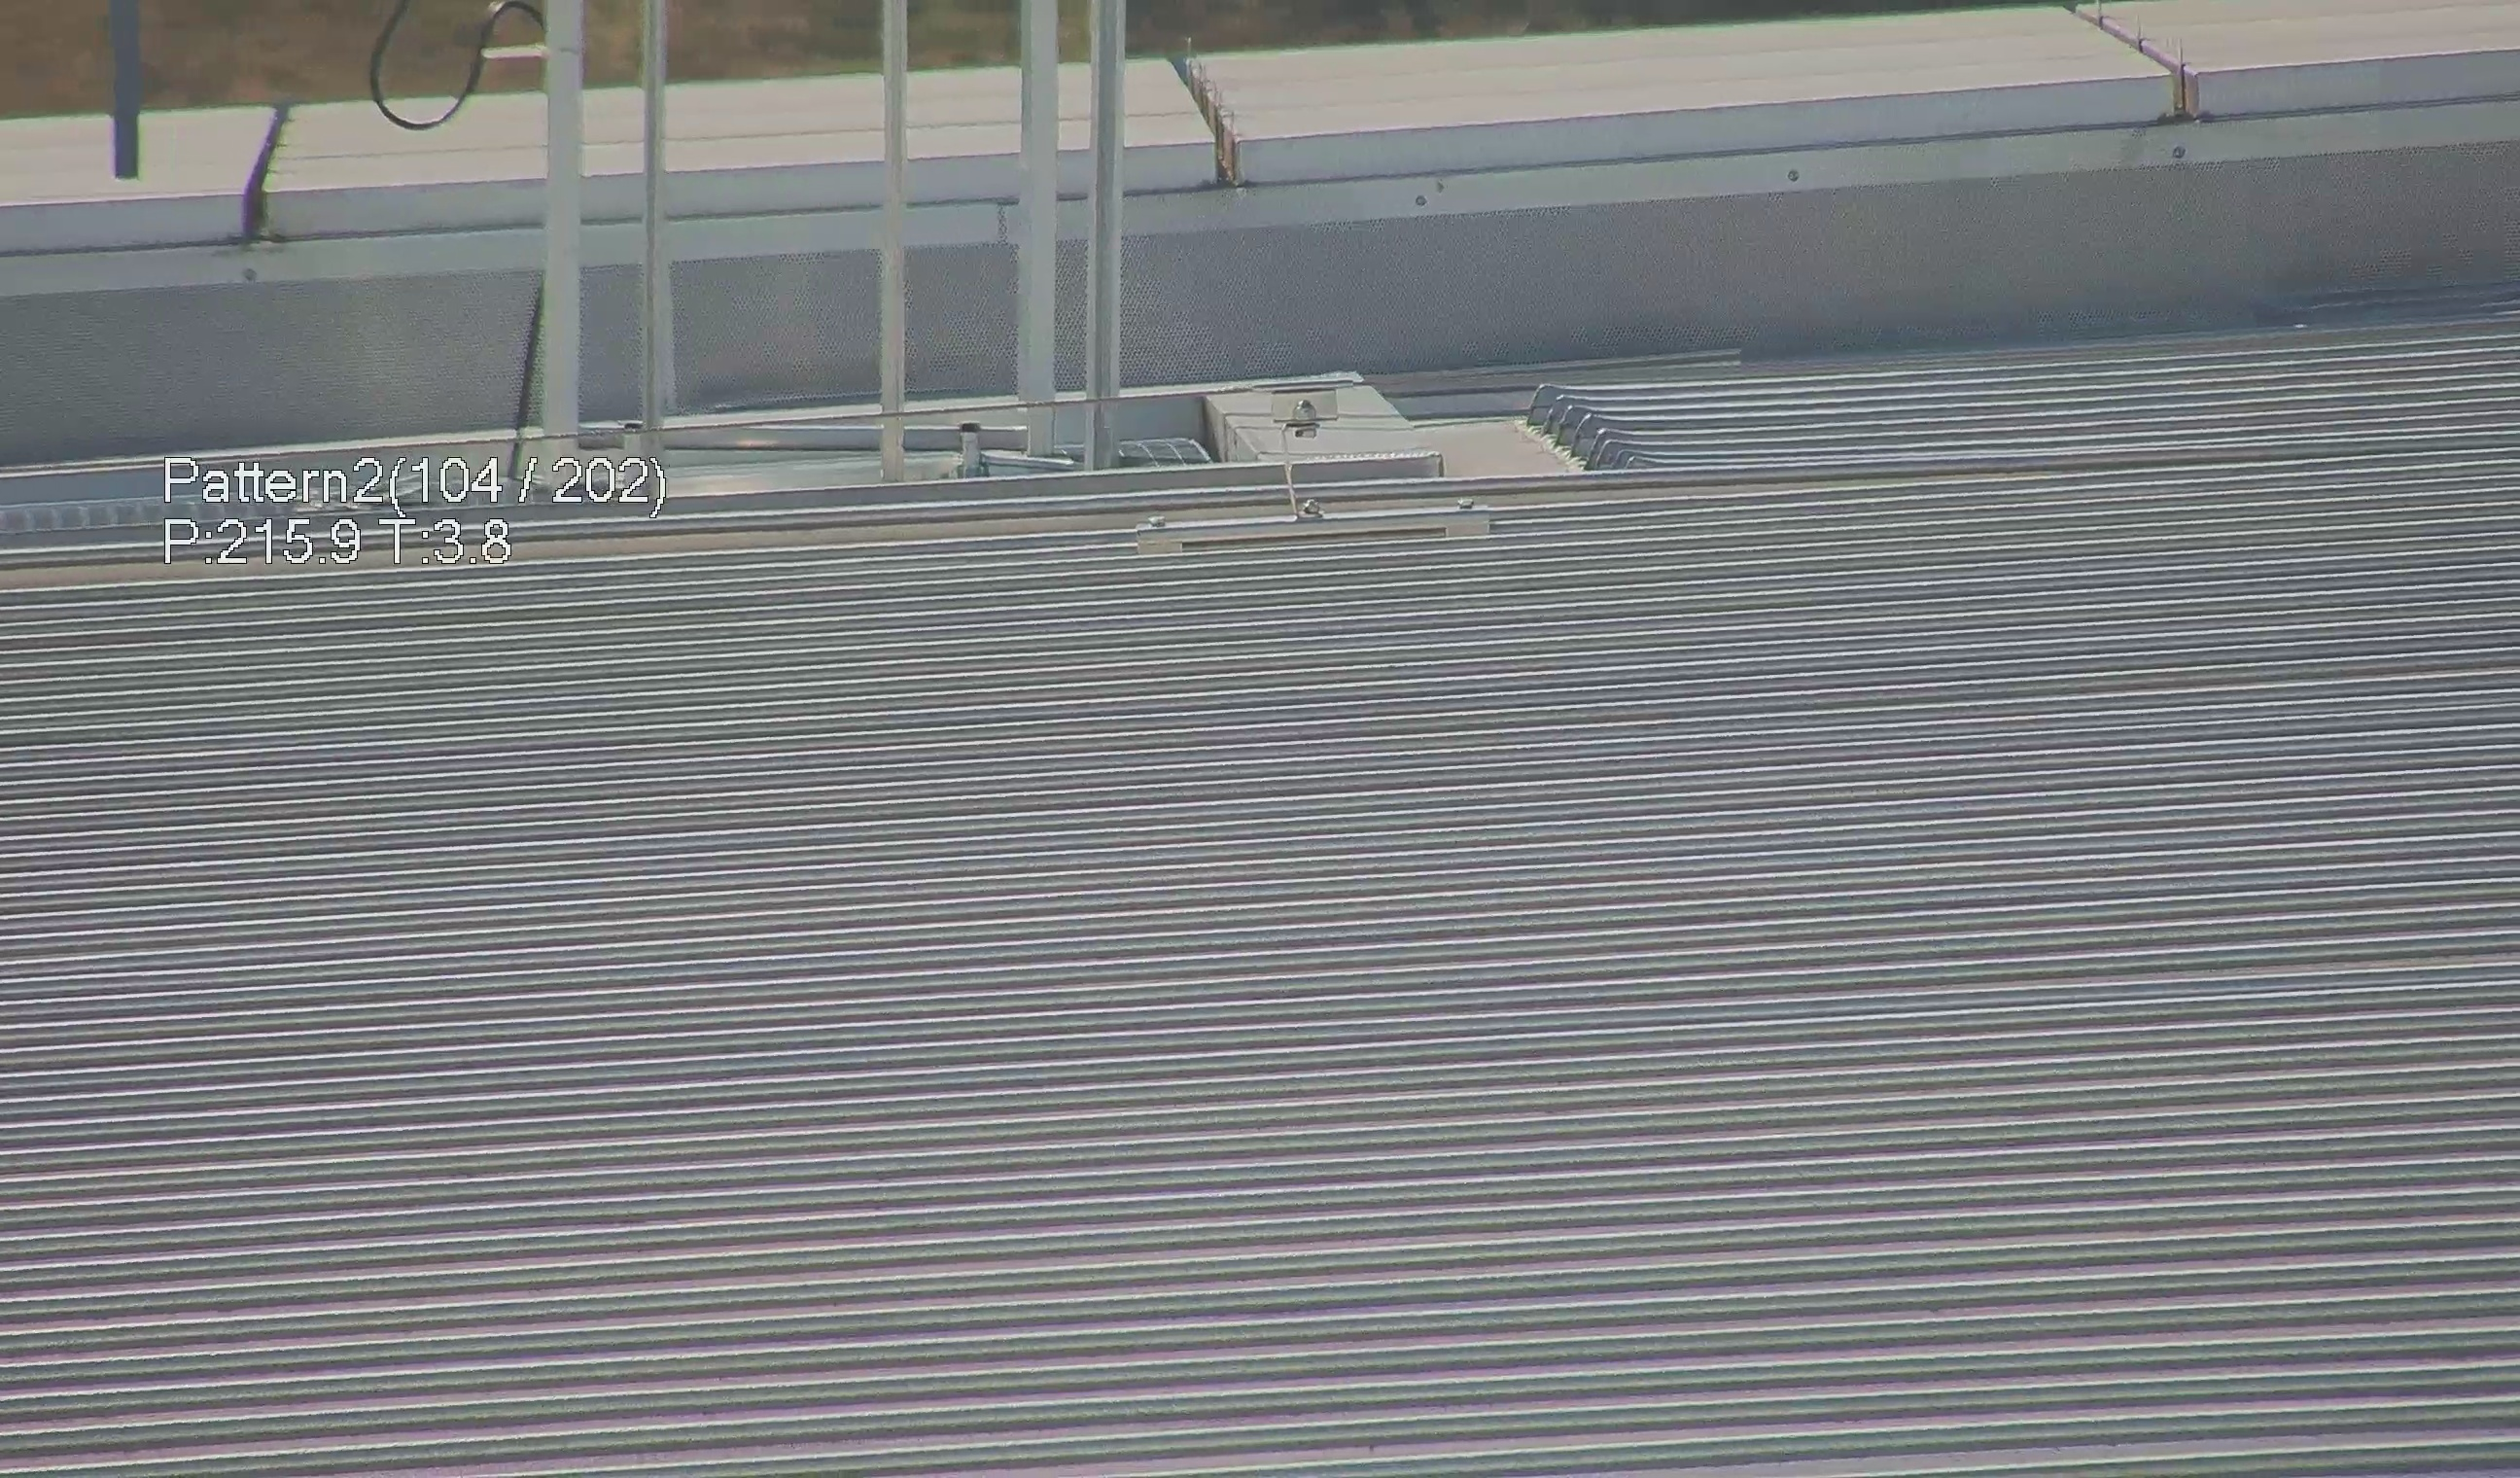Other: (364, 0, 542, 135)
